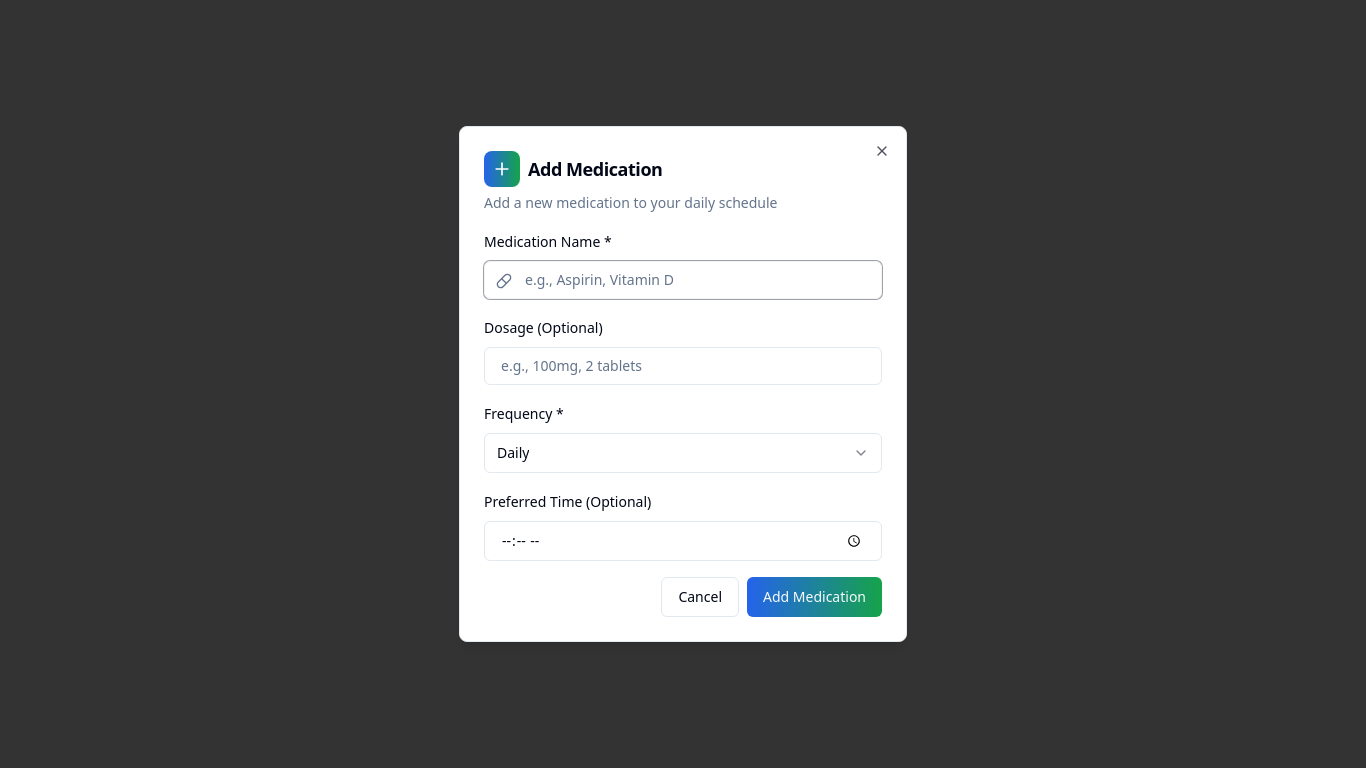
Scenario: MedicationForm › validates required fields
The width and height of the screenshot is (1366, 768).
Click the button "Add Medication". click: (814, 597)
box: [747,577,882,617]
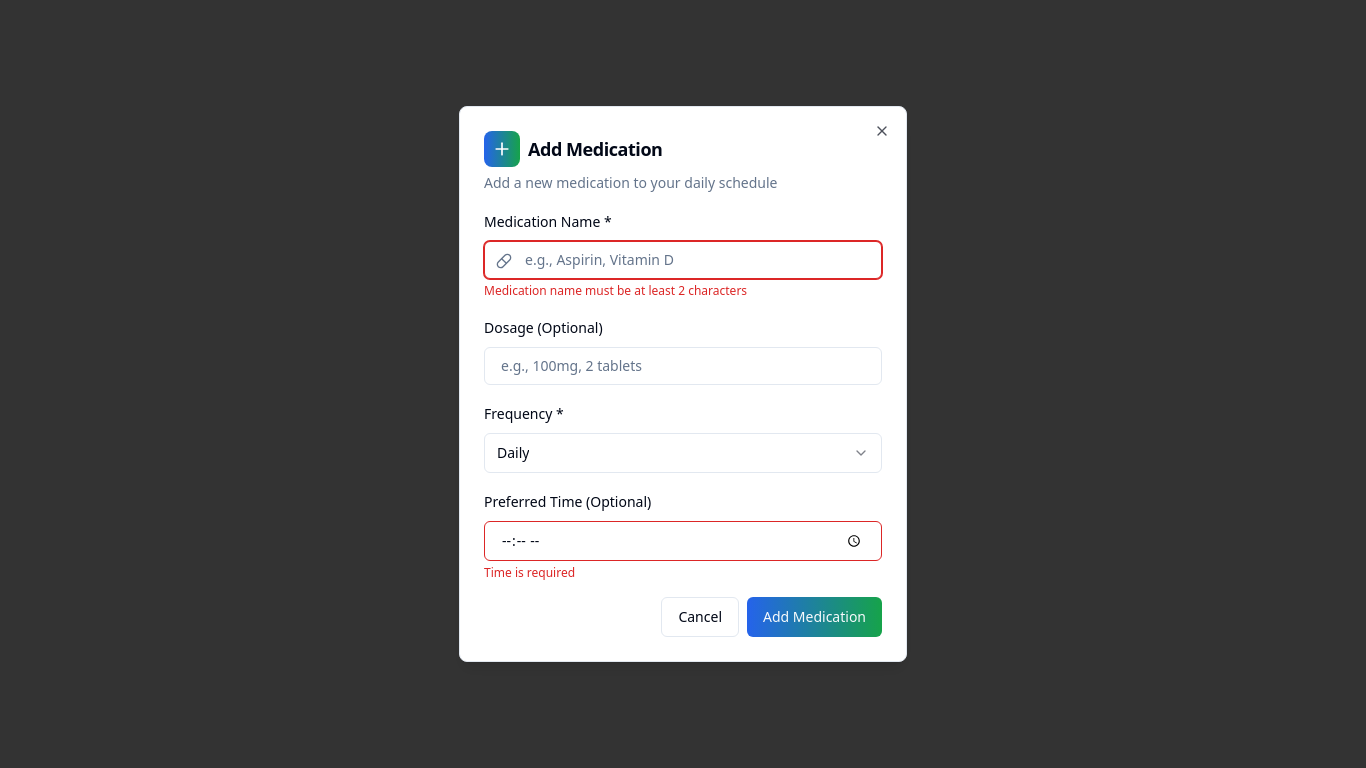
Now the text "Medication name must be at least 2 characters" is shown, box [484,282,747,299]
Now the text "Time is required" is shown, box [484,564,575,581]
